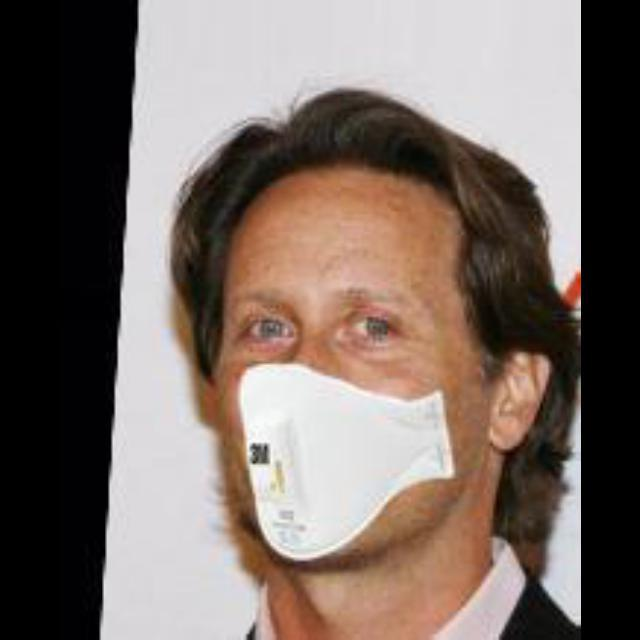suspicion: (202, 141, 506, 563)
